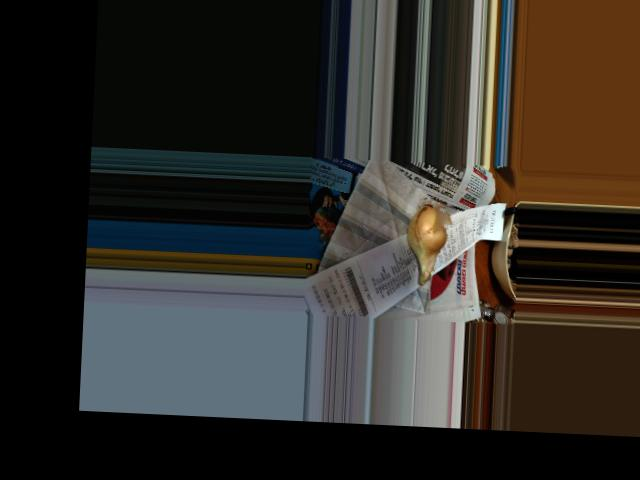onion: (407, 205, 447, 275)
